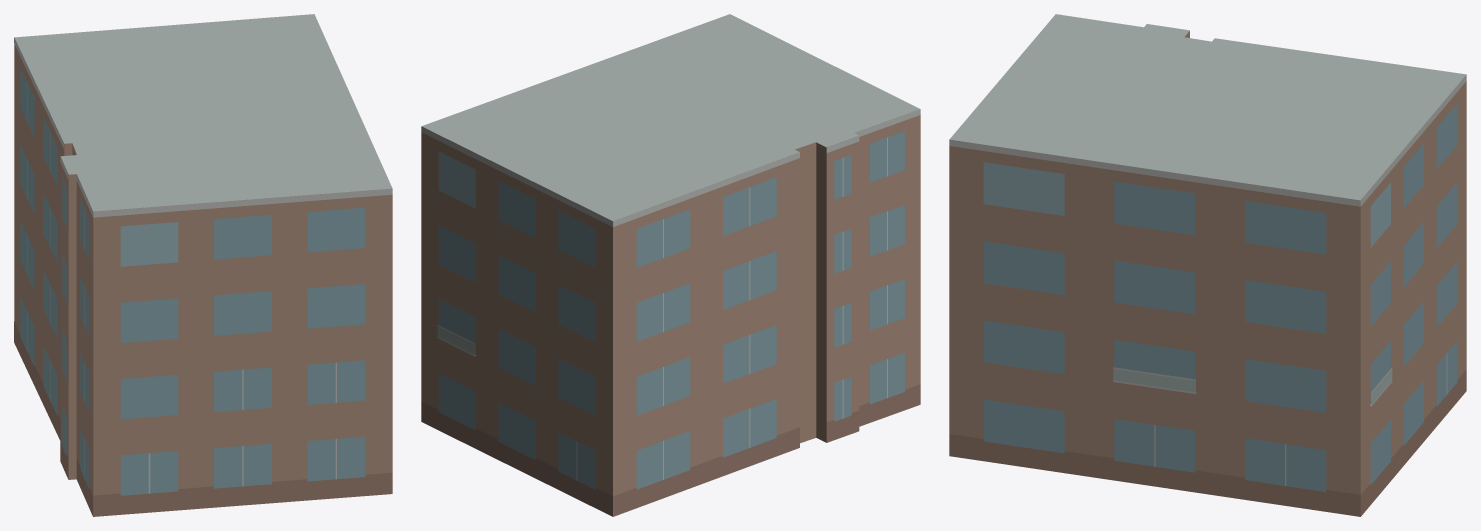
Rendered from survey-upis-32890144.glb.
The picture shows the model from 3 angles, left to right: view 1: azimuth 30°, elevation 25°; view 2: azimuth 150°, elevation 25°; view 3: azimuth 270°, elevation 25°; orthographic projection. The views are drawn at different scales.
Parts seen in each view (by area): view 1: survey-upis-32890144.tmp; view 2: survey-upis-32890144.tmp; view 3: survey-upis-32890144.tmp.
Boxes of the visible parts, x1,y1,x2,y2 form: survey-upis-32890144.tmp: (14, 14, 392, 516); survey-upis-32890144.tmp: (421, 14, 920, 516); survey-upis-32890144.tmp: (949, 14, 1466, 516).
Bounding box in the file's own units: 15.42 × 12.2 × 18.08.
